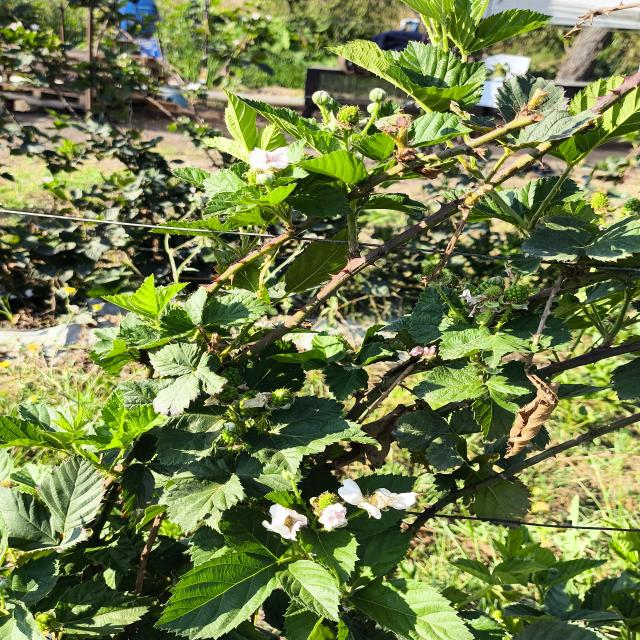boton: (312, 90, 332, 106), (255, 173, 276, 187), (369, 88, 388, 103), (367, 103, 379, 113)
flor: (338, 479, 418, 519), (262, 504, 307, 541), (249, 147, 289, 172), (319, 504, 347, 531)
